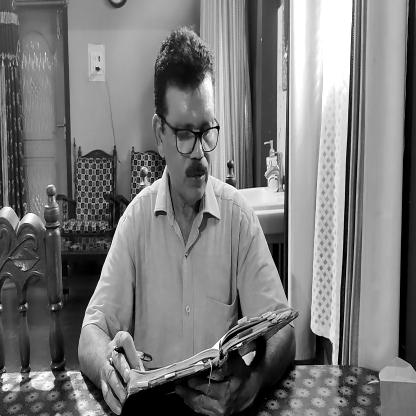Normal: (152, 30, 217, 212)
